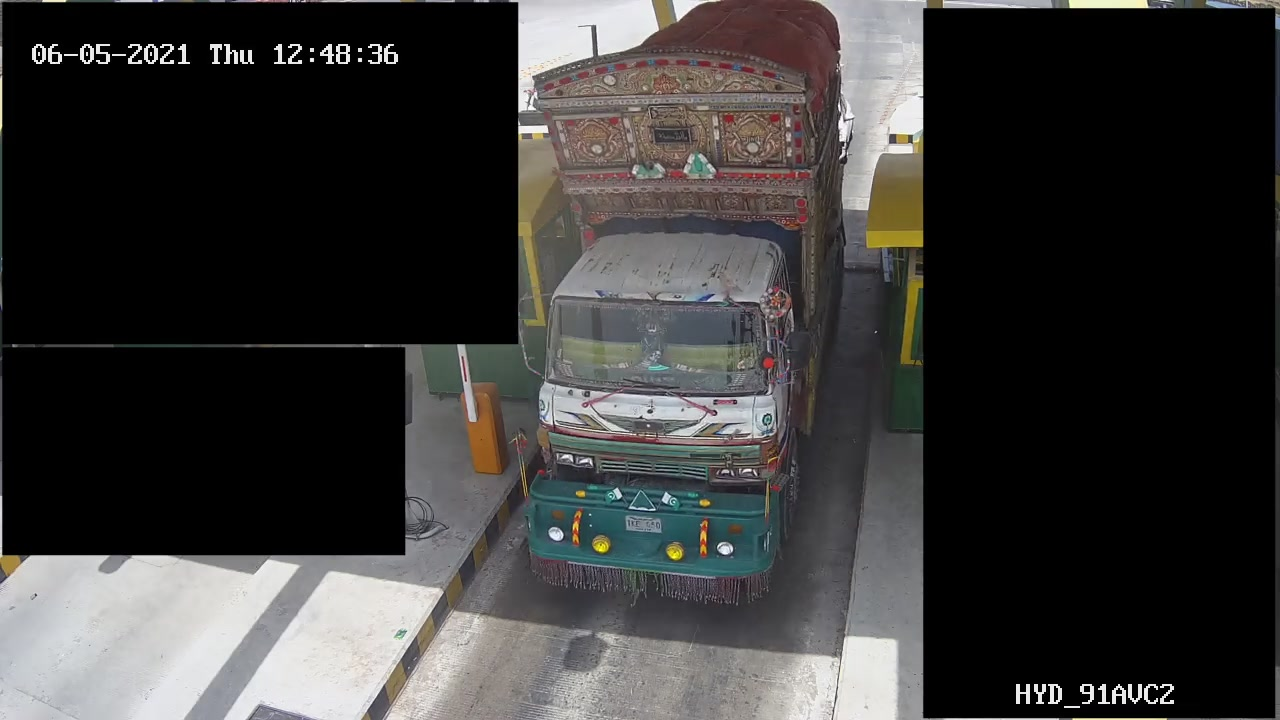F5: (530, 11, 852, 607)
